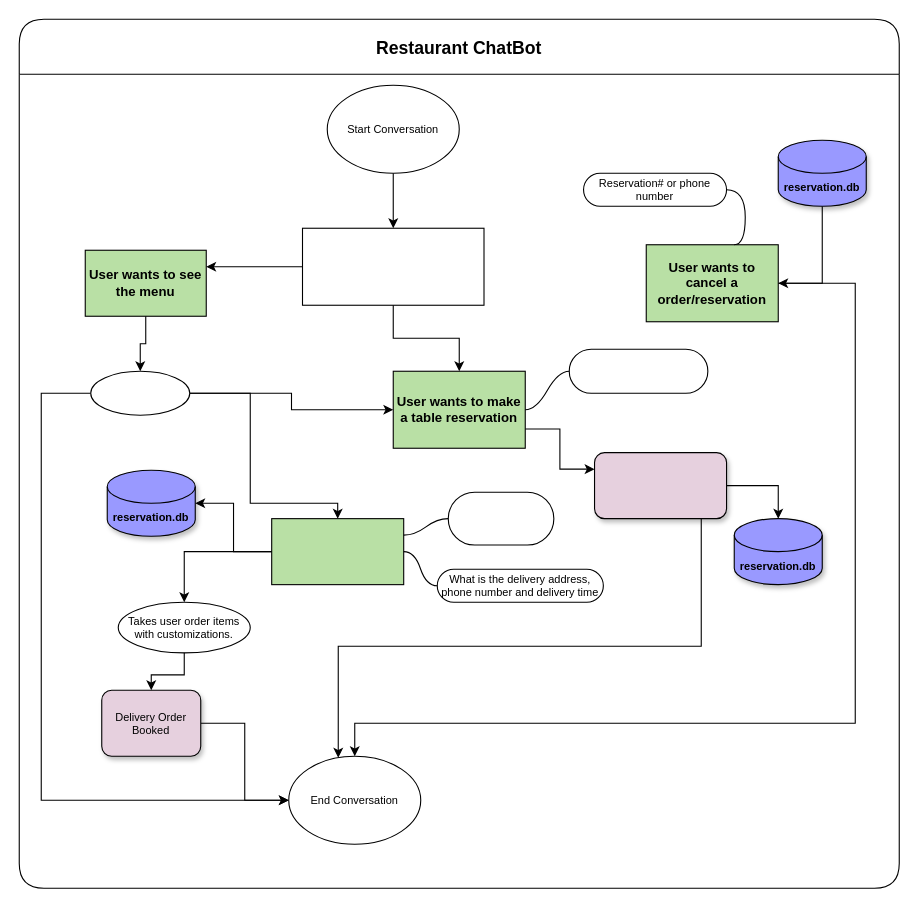
This 919x908 diagram has some shape labels left out. Here are the shapes that lost their labels. From the top down, the centre of each, then its label:
the point at 392,266: Start Conversation Chatbot initiates conversation with a welcome message
the point at 638,370: What day and time and no, of quests
the point at 140,392: Menu
the point at 661,486: Table Booked
the point at 500,518: What items do you want to order
the point at 337,551: User wants to place a delivery order
